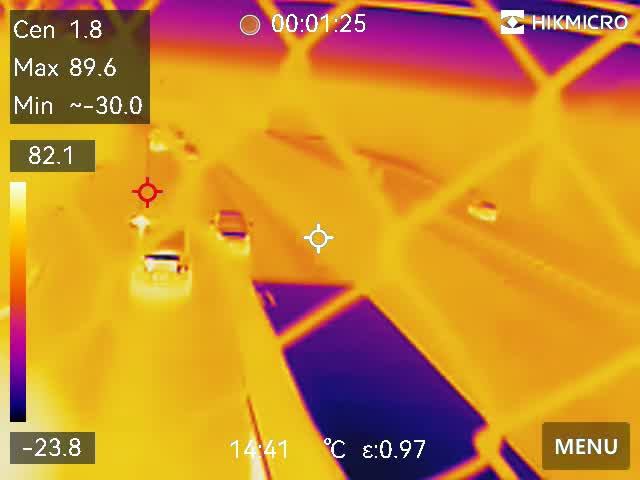heavyTruck: (244, 275, 550, 480)
vehicle: (130, 197, 196, 304), (209, 206, 260, 267), (468, 196, 505, 226)
